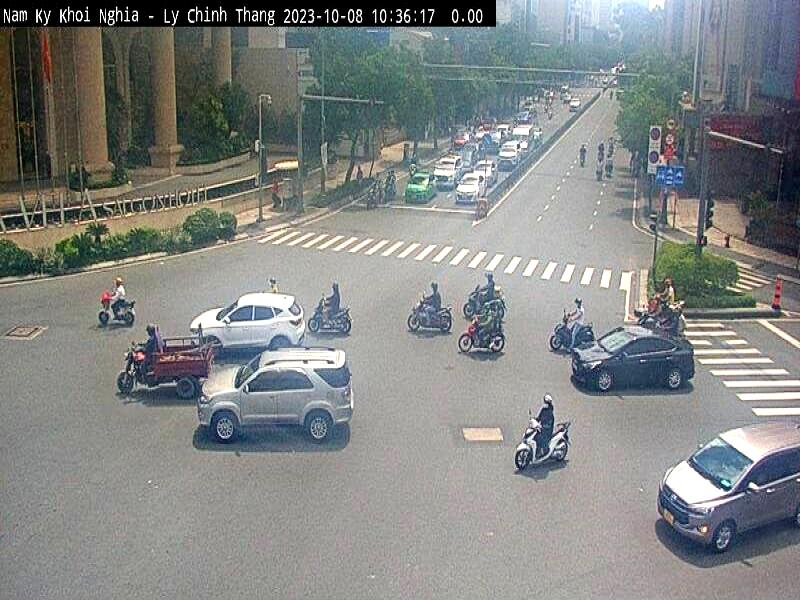car: (659, 420, 800, 552), (194, 343, 356, 442), (573, 328, 696, 402), (193, 294, 308, 350)
motorcycle: (514, 419, 574, 476), (409, 292, 457, 330), (311, 298, 355, 336), (457, 320, 505, 353)
truck: (121, 328, 210, 404)
